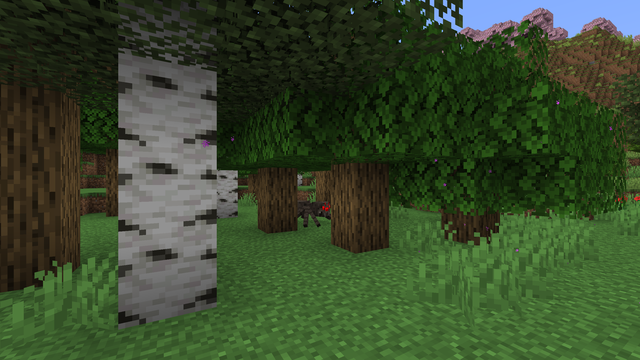araignees: (298, 197, 328, 227)
